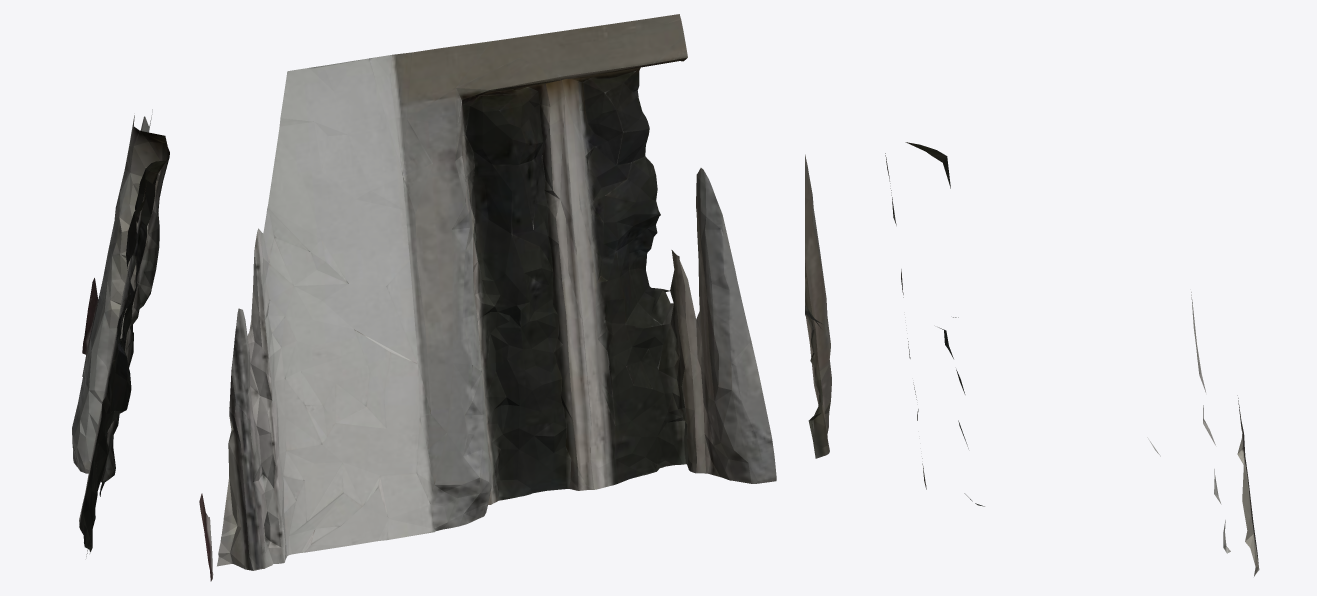
3 views of the same model, side by side, from view 1: azimuth 30°, elevation 25°; view 2: azimuth 150°, elevation 25°; view 3: azimuth 270°, elevation 25° (orthographic). The views are drawn at different scales.
Size of the model in its own units: 1.31 by 1.67 by 1.67.
3 materials, 3 textured.
